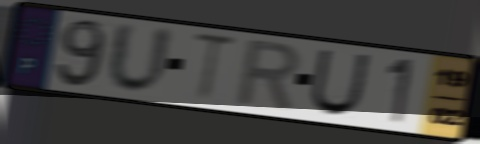1: (384, 57, 414, 127)
9: (52, 17, 109, 90)
R: (232, 37, 304, 115)
T: (190, 30, 241, 106)
U: (105, 19, 176, 98), (308, 47, 373, 118)
